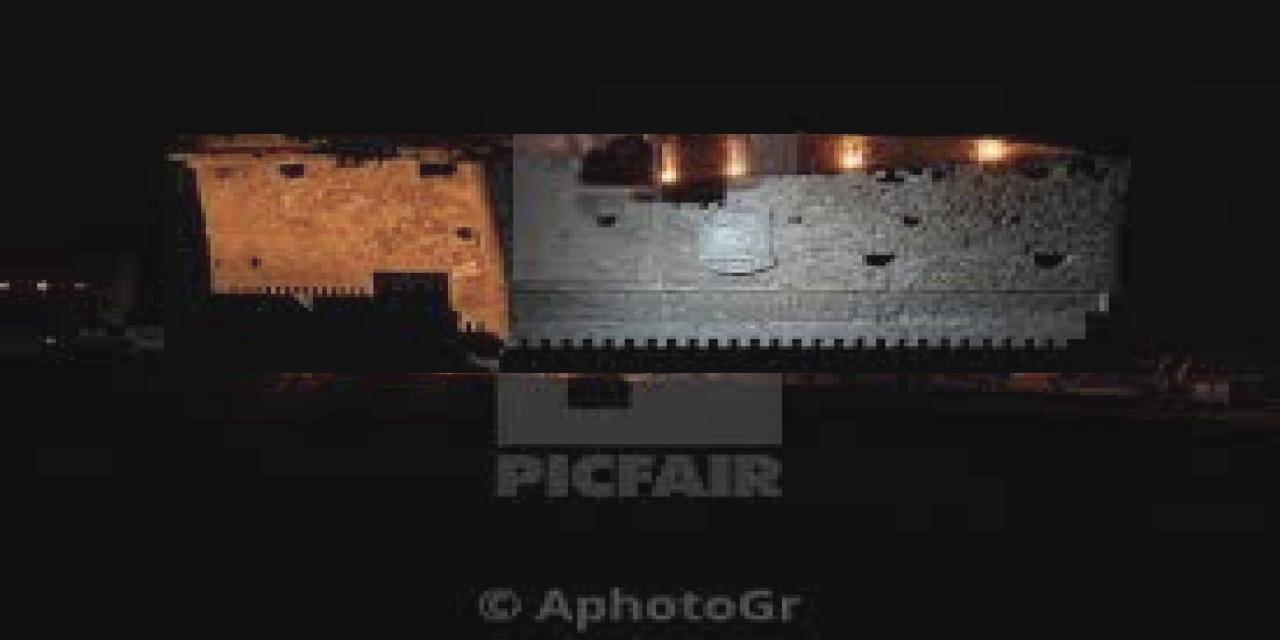Kules: (165, 135, 1132, 374)
